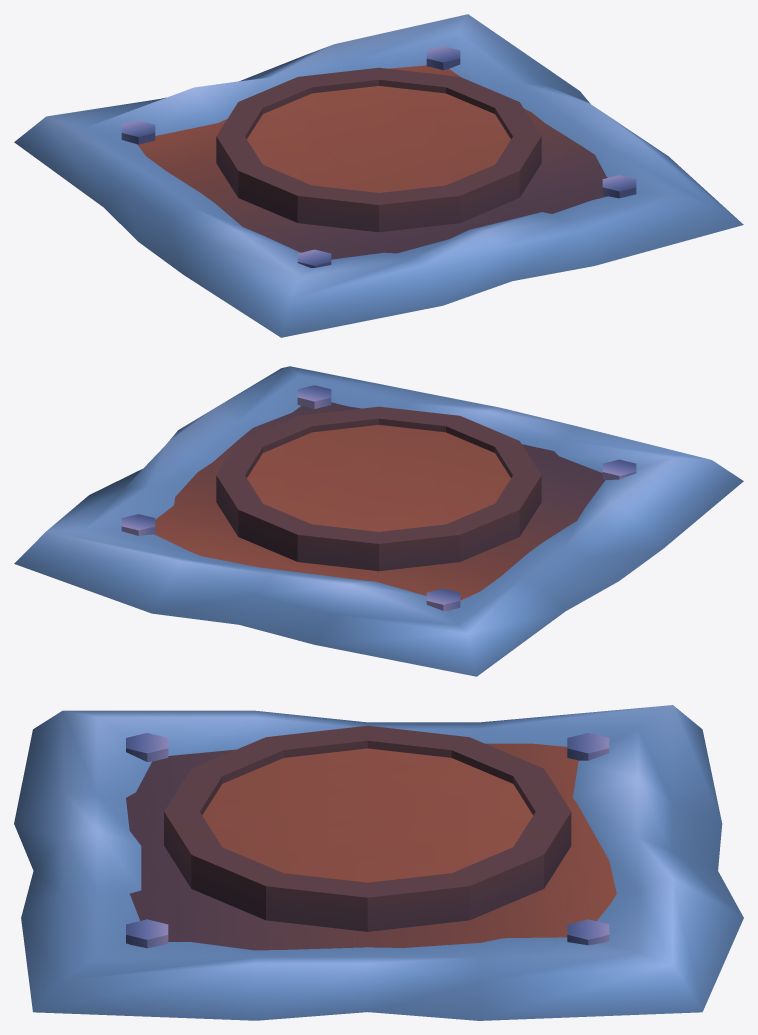
Rendered from button.fbx.
3 renders of one model, top to bottom at view 1: azimuth 30°, elevation 25°; view 2: azimuth 150°, elevation 25°; view 3: azimuth 270°, elevation 25°, orthographic. The views are drawn at different scales.
Visible parts, largest first — view 1: polySurface8; view 2: polySurface8; view 3: polySurface8.
Part boxes in pixels (left/top/right/bottom): polySurface8: left=14, top=14, right=743, bottom=337; polySurface8: left=14, top=366, right=743, bottom=676; polySurface8: left=14, top=705, right=743, bottom=1020.
Bounding box in the file's own units: 0.7646 × 0.0752 × 0.7943.
